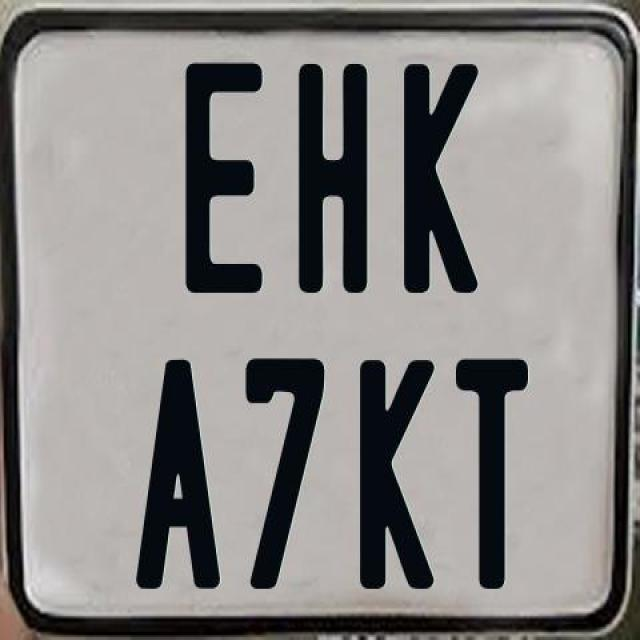7: (241, 356, 328, 588)
A: (136, 360, 222, 592)
E: (185, 58, 271, 292)
H: (296, 63, 372, 294)
K: (404, 59, 484, 294), (357, 360, 432, 597)
T: (453, 358, 532, 598)
